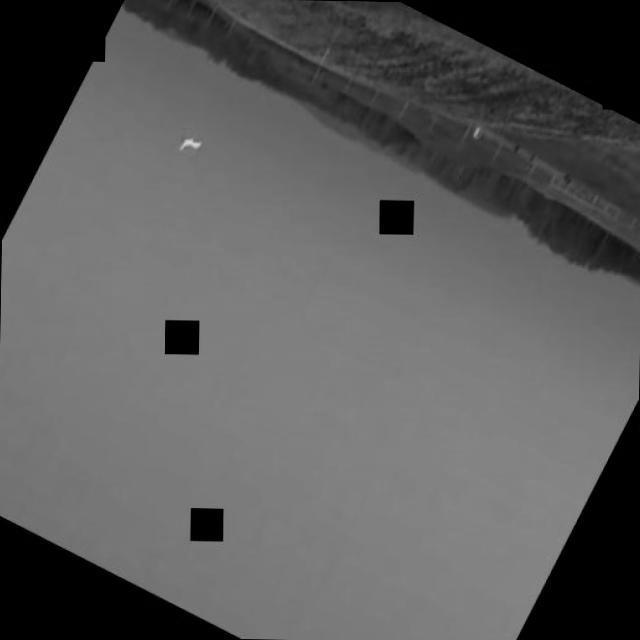aeroplane: (177, 135, 205, 156)
